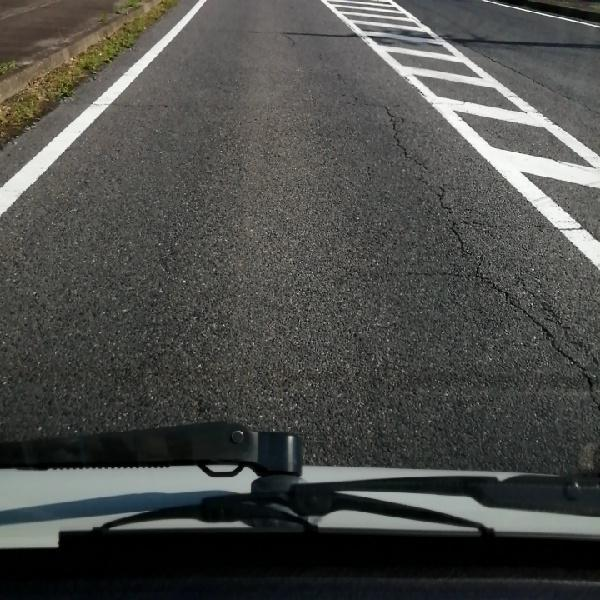D00: (377, 85, 591, 400)
D10: (466, 211, 562, 236), (357, 263, 478, 282)
